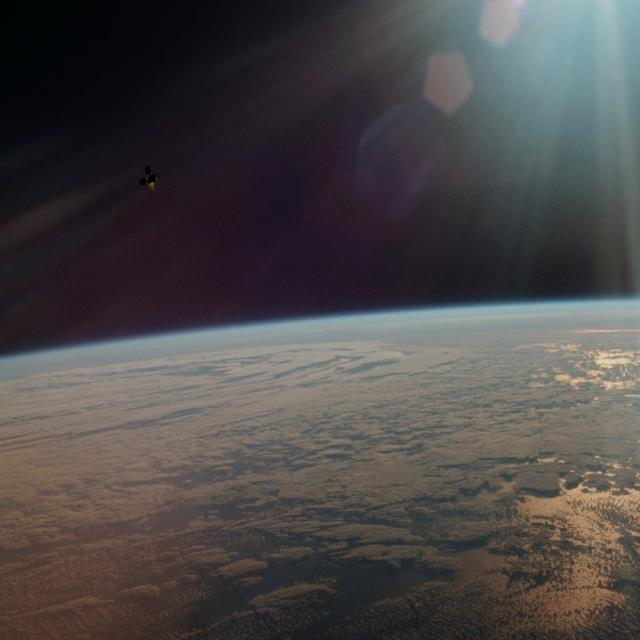satellite: (136, 160, 175, 202)
